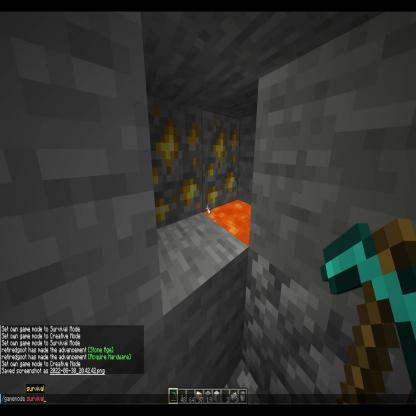gold ore: (142, 101, 203, 233), (203, 107, 241, 218)
